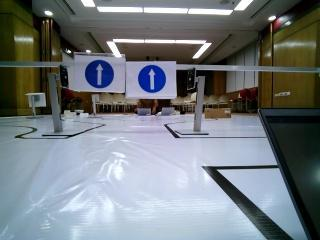straight: (126, 63, 177, 97), (79, 55, 123, 94)
